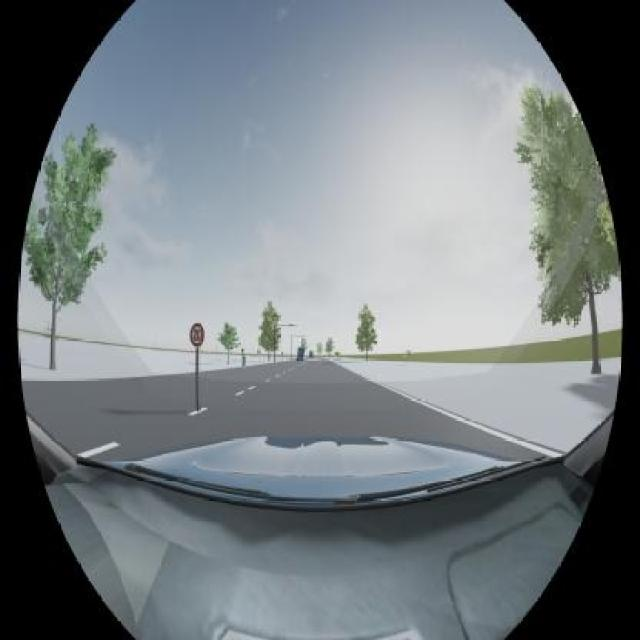forb_speed_over_20: (189, 322, 205, 347)
